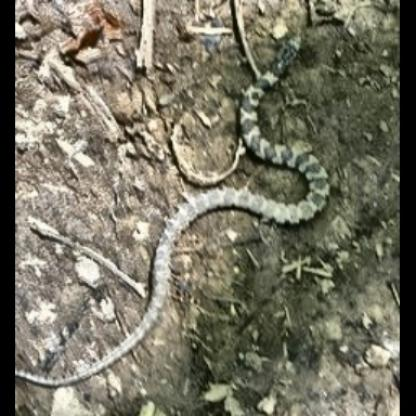Snake: (15, 38, 332, 390)
